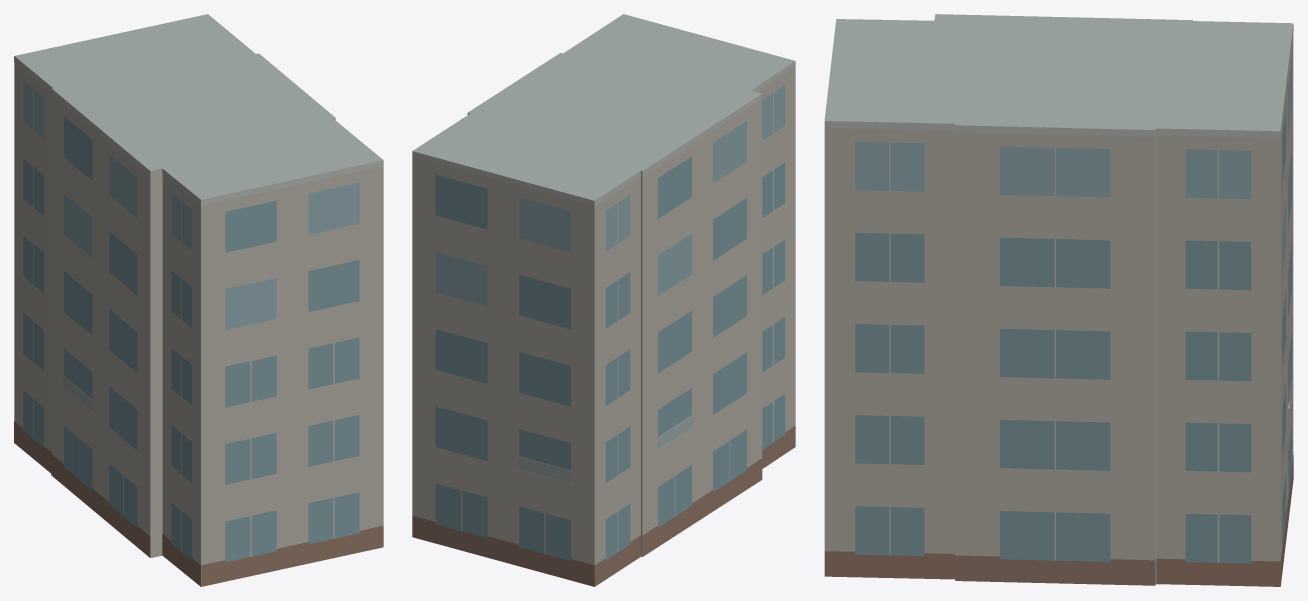
The model's file is survey-upis-32838669.glb.
3 views of the same model, side by side, from view 1: azimuth 30°, elevation 25°; view 2: azimuth 150°, elevation 25°; view 3: azimuth 270°, elevation 25° (orthographic). The views are drawn at different scales.
Visible parts, largest first — view 1: survey-upis-32838669.tmp; view 2: survey-upis-32838669.tmp; view 3: survey-upis-32838669.tmp.
Boxes of the visible parts, x1,y1,x2,y2 form: survey-upis-32838669.tmp: (14, 14, 383, 586); survey-upis-32838669.tmp: (412, 14, 795, 586); survey-upis-32838669.tmp: (824, 14, 1293, 586).
Bounding box in the file's own units: 8.95 × 16.2 × 15.12.
